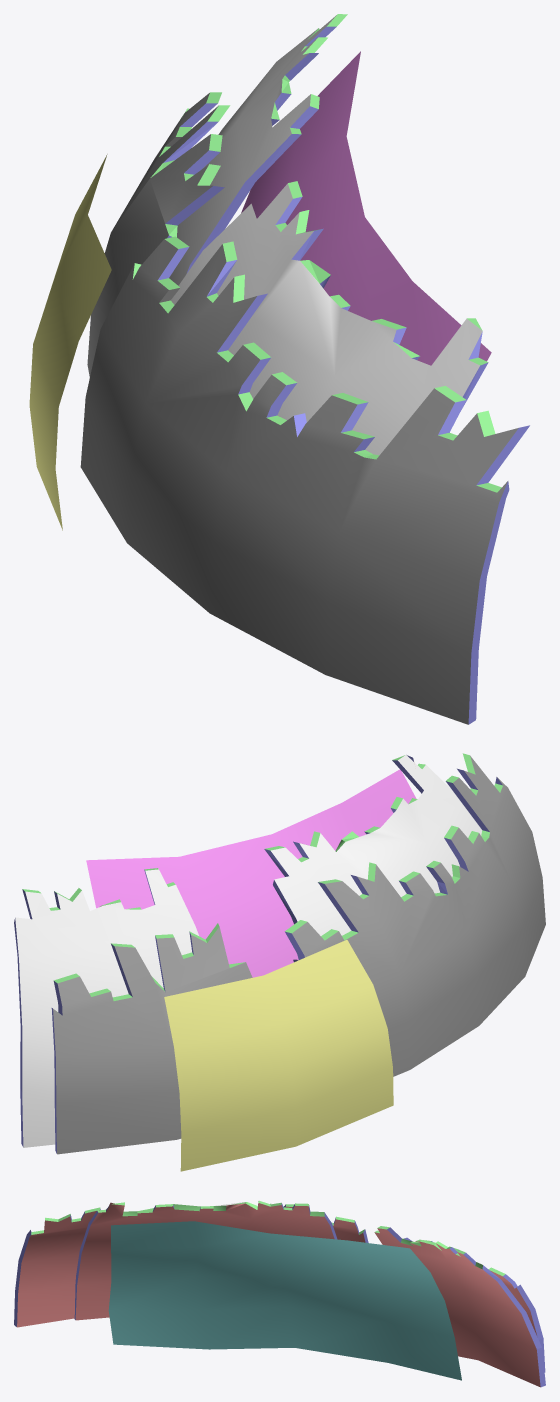
The model's file is PM_Plain_SetOBJ_02.gltf.
3 renders of one model, top to bottom at view 1: azimuth 30°, elevation 25°; view 2: azimuth 150°, elevation 25°; view 3: azimuth 270°, elevation 25°, orthographic. The views are drawn at different scales.
Parts seen in each view (by area): view 1: PM_Plain_SetOBJ_02; view 2: PM_Plain_SetOBJ_02; view 3: PM_Plain_SetOBJ_02.
Boxes of the visible parts, bbox=[...] form: PM_Plain_SetOBJ_02: bbox=[29, 14, 529, 724]; PM_Plain_SetOBJ_02: bbox=[14, 753, 545, 1171]; PM_Plain_SetOBJ_02: bbox=[14, 1200, 545, 1387].
Bounding box in the file's own units: 1.78 × 1.49 × 3.88.
